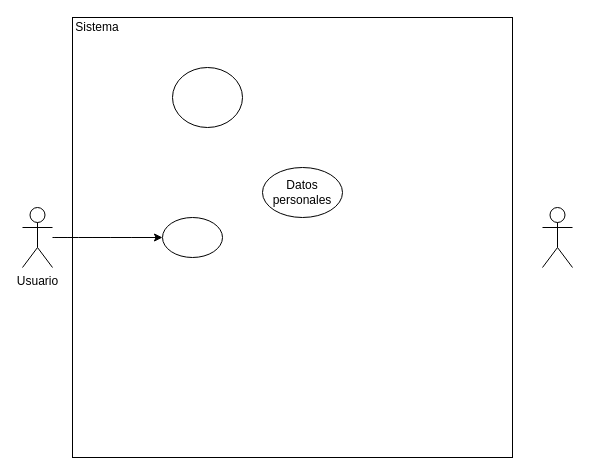
The diagram is 613 pixels wide and 475 high, and some of its shapes have lost their labels. The shapes that lost their labels are listed below. From the top down, each one's centre as x and y in pixels, then its label:
At point 192,237: "Reservar".
At point 557,237: "Base de datos".
